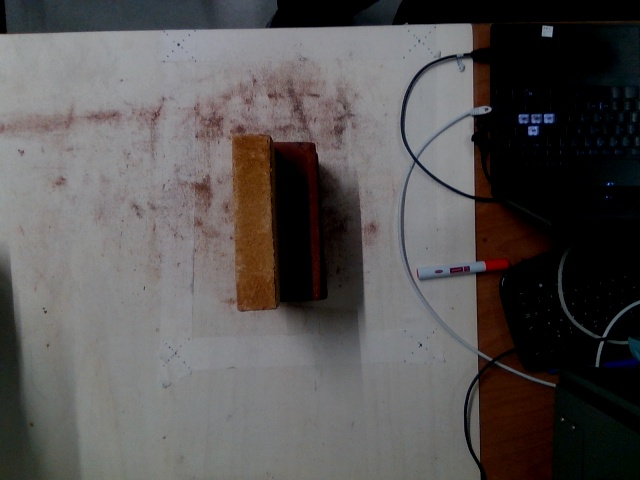brick-side: (233, 136, 273, 311)
